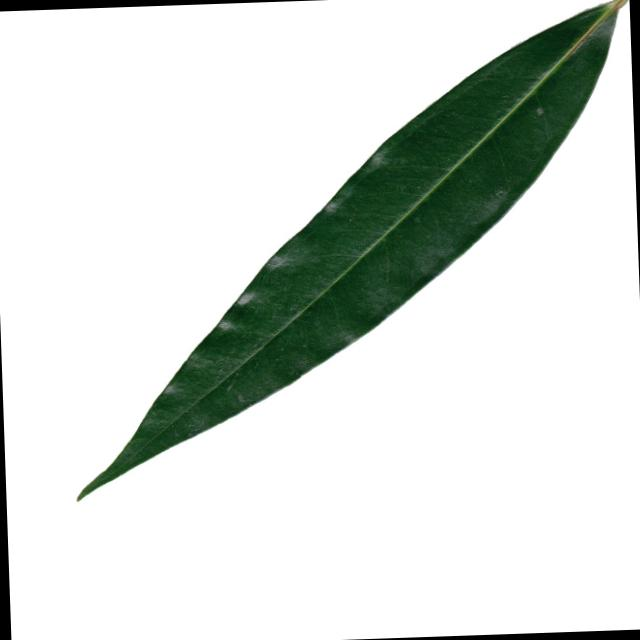Medicinal-Rose Apple: (60, 0, 640, 500)
